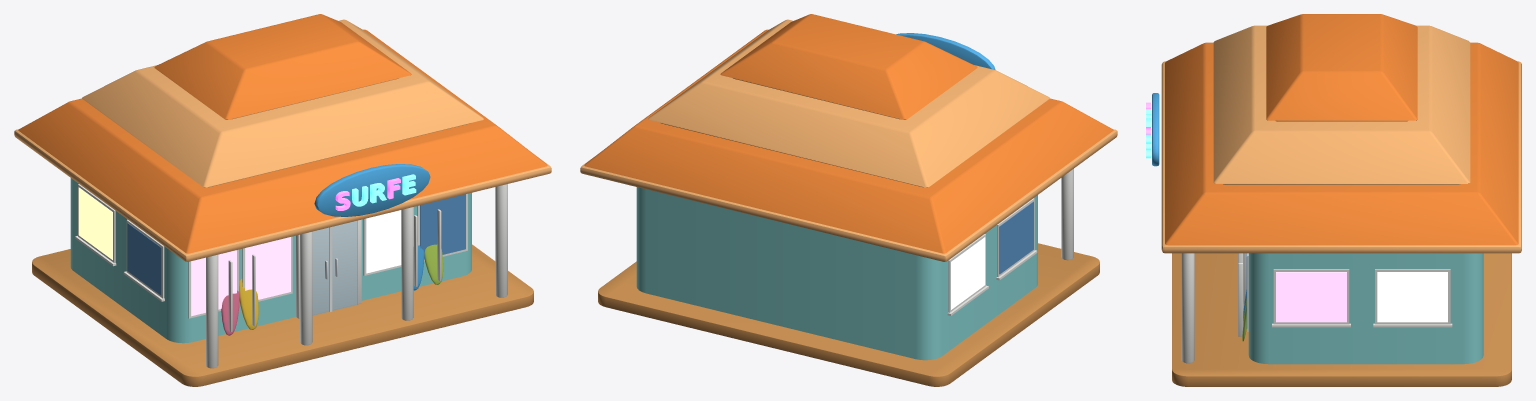
The model's file is loja_surfe.glb.
The picture shows the model from 3 angles, left to right: view 1: azimuth 30°, elevation 25°; view 2: azimuth 150°, elevation 25°; view 3: azimuth 270°, elevation 25°; orthographic projection. The views are drawn at different scales.
Parts seen in each view (by area): view 1: loja_surfe; view 2: loja_surfe; view 3: loja_surfe.
Part boxes in pixels (x1=…): loja_surfe: x1=14, y1=14, x2=551, y2=386; loja_surfe: x1=580, y1=14, x2=1117, y2=386; loja_surfe: x1=1146, y1=14, x2=1521, y2=386.
Bounding box in the file's own units: 10.9 × 6.97 × 9.29.
8 materials, 1 textured.
